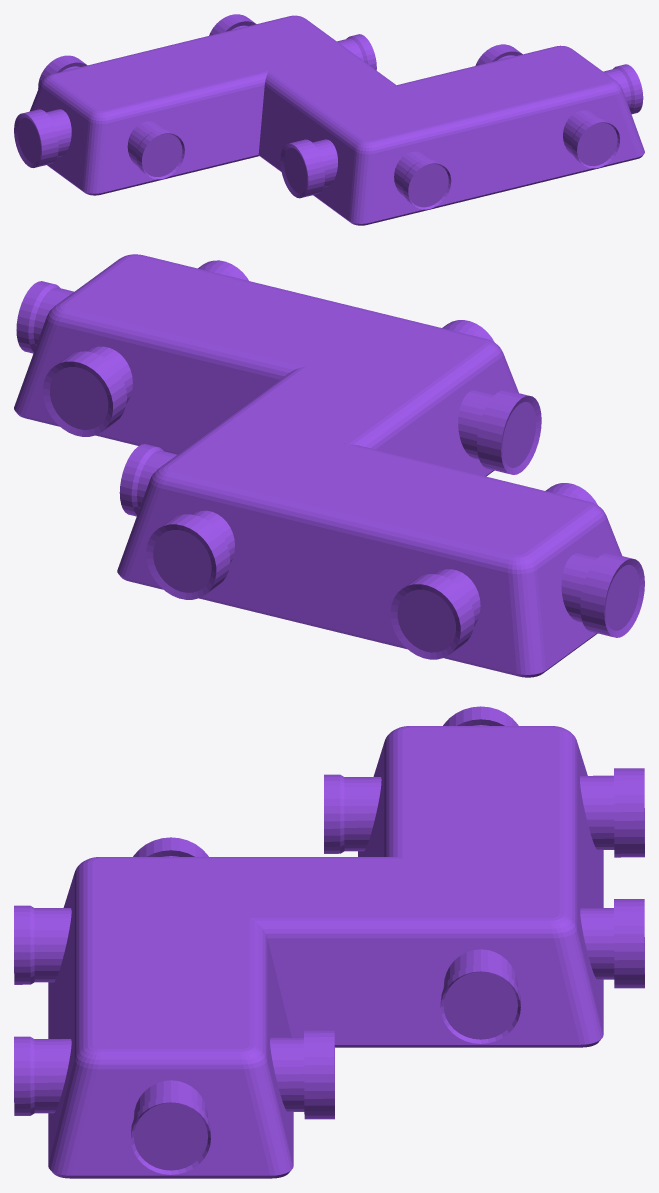
File: Num64.fbx
3 views of the same model, one above another, from view 1: azimuth 30°, elevation 25°; view 2: azimuth 150°, elevation 25°; view 3: azimuth 270°, elevation 25° (orthographic). The views are drawn at different scales.
Parts seen in each view (by area): view 1: Cube.005; view 2: Cube.005; view 3: Cube.005.
Boxes of the visible parts, x1,y1,x2,y2 form: Cube.005: (14,14,644,225); Cube.005: (14,254,644,677); Cube.005: (14,706,644,1178).
Size of the model in its own units: 7.48 by 1 by 5.09.
